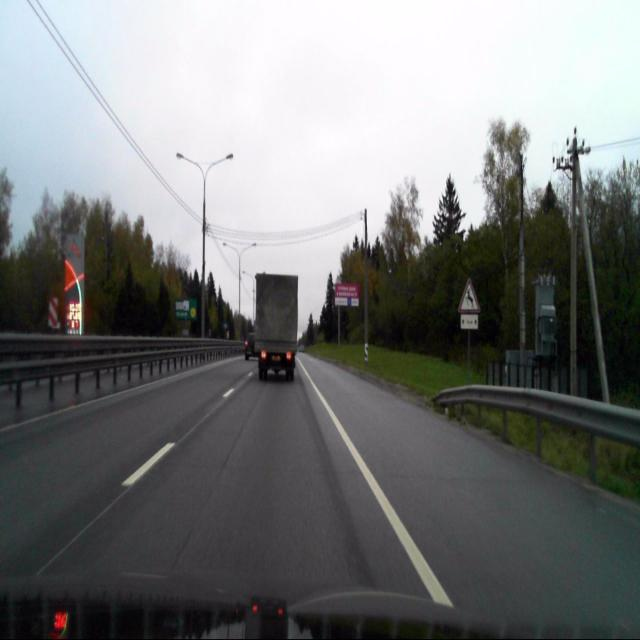road sign: (458, 276, 480, 313), (460, 315, 478, 329)
